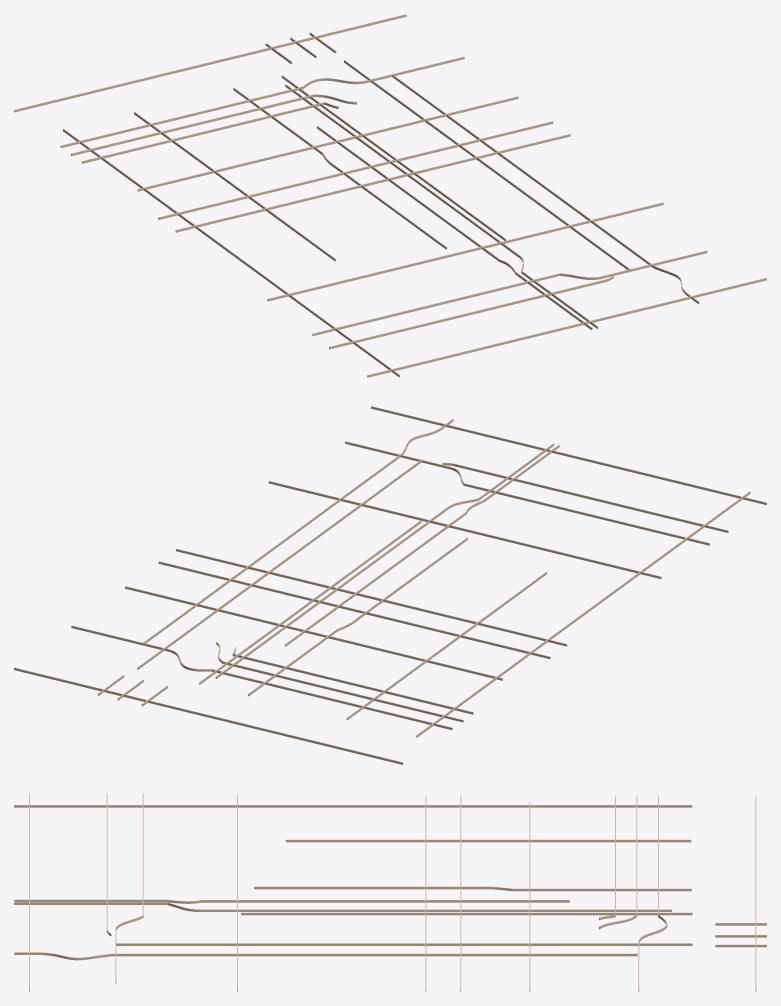
The model's file is minor_roads.glb.
3 renders of one model, top to bottom at view 1: azimuth 30°, elevation 25°; view 2: azimuth 150°, elevation 25°; view 3: azimuth 270°, elevation 25°, orthographic.
Parts seen in each view (by area): view 1: world; view 2: world; view 3: world.
Part boxes in pixels (x1,y1,x2,y2): world: (14, 14, 766, 377); world: (14, 406, 766, 764); world: (14, 793, 766, 991).
Bounding box in the file's own units: 185 × 1 × 300.
